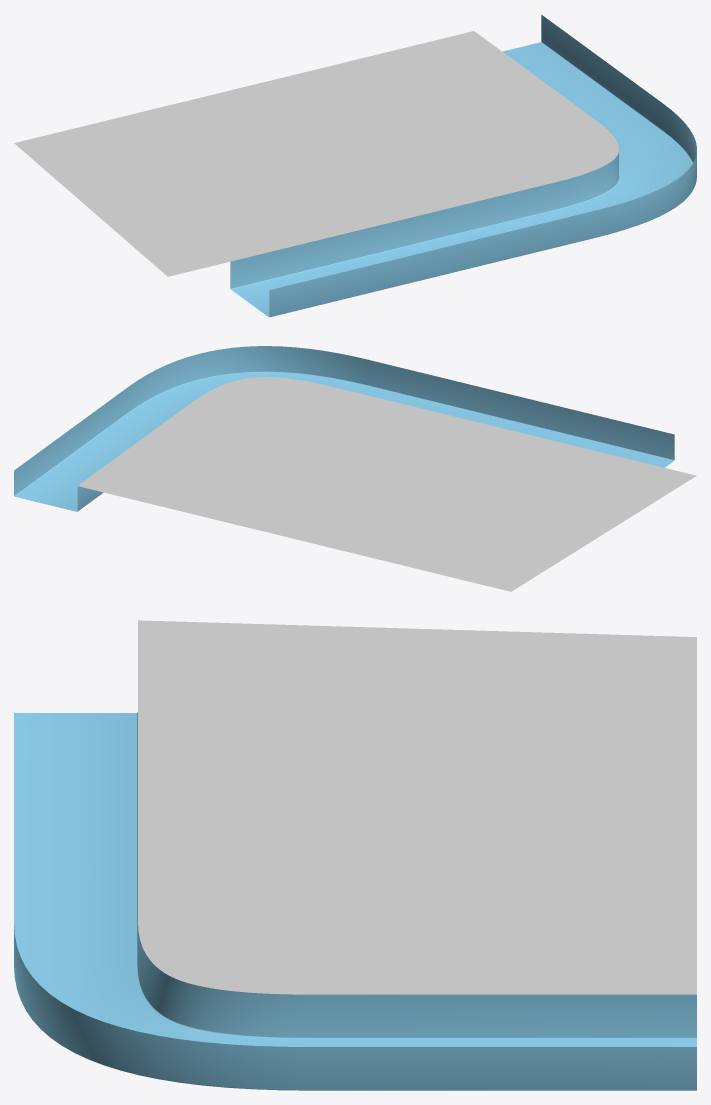
File: krishka_reception.fbx
The picture shows the model from 3 angles, top to bottom: view 1: azimuth 30°, elevation 25°; view 2: azimuth 150°, elevation 25°; view 3: azimuth 270°, elevation 25°; orthographic projection. The views are drawn at different scales.
Parts seen in each view (by area): view 1: potolok_reception; view 2: potolok_reception; view 3: potolok_reception.
Boxes of the visible parts, x1,y1,x2,y2 form: potolok_reception: [14, 14, 696, 317]; potolok_reception: [14, 346, 696, 591]; potolok_reception: [14, 620, 696, 1090].
Bounding box in the file's own units: 158 × 7.59 × 107.
